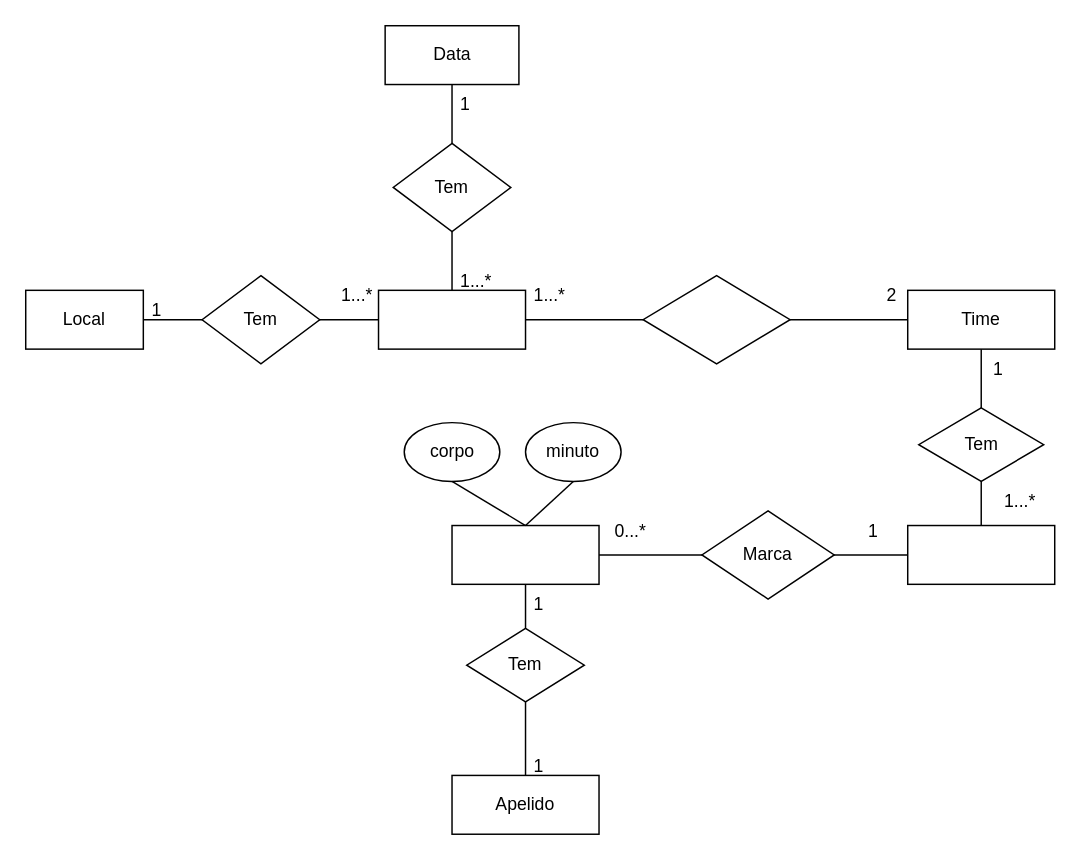
Some shapes in this 1080 by 860 pixel diagram are drawn without their labels. The centre of each missing label's shape, as x and y in pixels:
Envolve: (x=716, y=319)
Gol: (x=525, y=554)
Jogador: (x=980, y=554)
Partida: (x=451, y=319)
